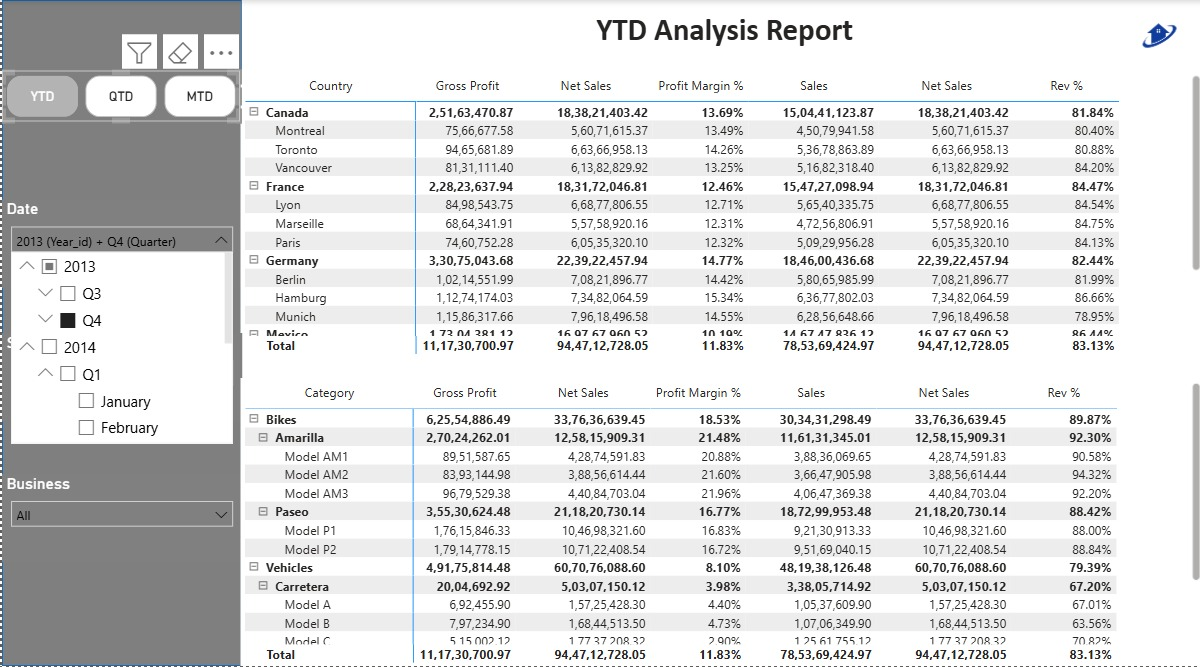

This screenshot's page, from the dashboard's own definition file:
{"tool":"powerbi","page":{"name":"YTD","canvas":[1280,720],"ordinal":0},"visuals":[{"type":"shape","box":[0,0,245,720],"z":0},{"type":"advancedSlicerVisual","fields":{"Values":["Time.Slicer"]},"box":[5,60,235,80],"z":1000},{"type":"slicer","title":"Date","fields":{"Values":["Dim_Date.Year_id","Dim_Date.Quarter","Dim_Date.Month_Name"]},"box":[5,170,235,292.5],"z":1000,"group":"g1"},{"type":"pivotTable","fields":{"Rows":["Dim-Location.Country","Dim-Location.City"],"Values":["Measures(1).Gross Profit","Measures(1).Selected Net Sales","Measures(1).Profit Margin%","Measures(1).Net Sales","Measures(1).Selected Net Sales","Measures(1).Revenue%"]},"box":[253.1,387.6,997.8,327.7],"z":2000},{"type":"actionButton","box":[317.9,0,100.3,40.4],"z":3000},{"type":"slicer","fields":{"Values":["Fact-Finance.Business"]},"box":[5,485,235,80],"z":4000},{"type":"pivotTable","fields":{"Rows":["Dim-Product.Category","Dim-Product.Product","Dim-Product.SubProduct"],"Values":["Measures(1).Gross Profit","Measures(1).Selected Net Sales","Measures(1).Profit Margin%","Measures(1).Net Sales","Measures(1).Selected Net Sales","Measures(1).Revenue%"]},"box":[253.1,59.9,1010.1,327.7],"z":5000},{"type":"shape","box":[253.1,0,891.4,59.9],"z":6000},{"type":"group","id":"g1","title":"Group 1","box":[5,170,235,292.5],"z":7000},{"type":"cardVisual","fields":{"Data":["Measures(1).Selected Date Header"]},"box":[5,196.2,235,27.5],"z":7001,"group":"g1"},{"type":"image","box":[1208.8,11.2,55,48.8],"z":8000}]}

Visuals, with their boxes on the page's 1280x720 design canvas (x1, y1, x2, y2). These are canvas units, not pixel positions in the 1200x667 screenshot, which may show the page scaled, cropped or inside an application window:
shape: bbox=[0, 0, 245, 720]
advancedSlicerVisual - Time.Slicer: bbox=[5, 60, 240, 140]
"Date" slicer: bbox=[5, 170, 240, 462]
pivotTable - Dim-Location.Country x Dim-Location.City: bbox=[253, 388, 1251, 715]
actionButton: bbox=[318, 0, 418, 40]
slicer - Fact-Finance.Business: bbox=[5, 485, 240, 565]
pivotTable - Dim-Product.Category x Dim-Product.Product: bbox=[253, 60, 1263, 388]
shape: bbox=[253, 0, 1144, 60]
"Group 1" group: bbox=[5, 170, 240, 462]
cardVisual - Measures(1).Selected Date Header: bbox=[5, 196, 240, 224]
image: bbox=[1209, 11, 1264, 60]
